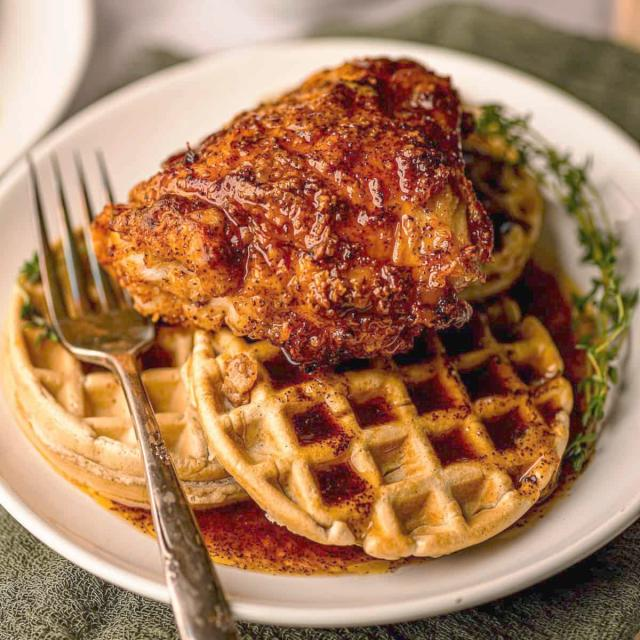chicken waffle: (91, 42, 574, 552)
